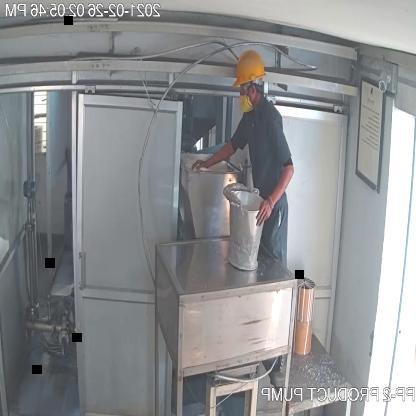helmet: (230, 49, 268, 93)
